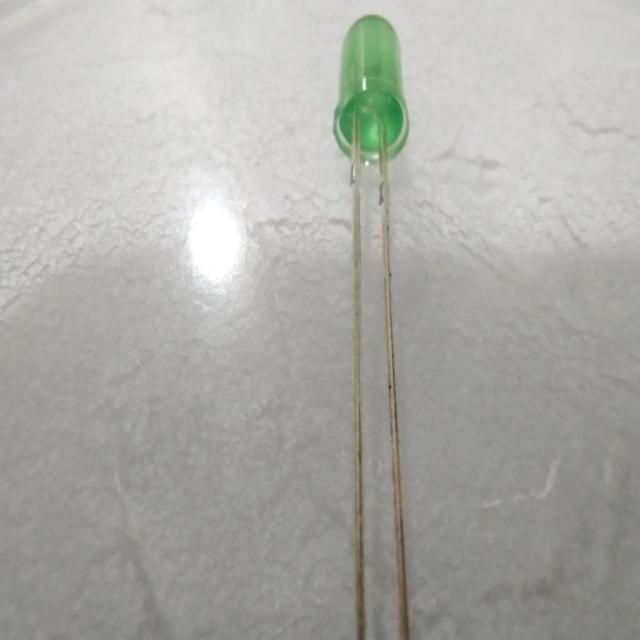green_led: (323, 10, 417, 179)
